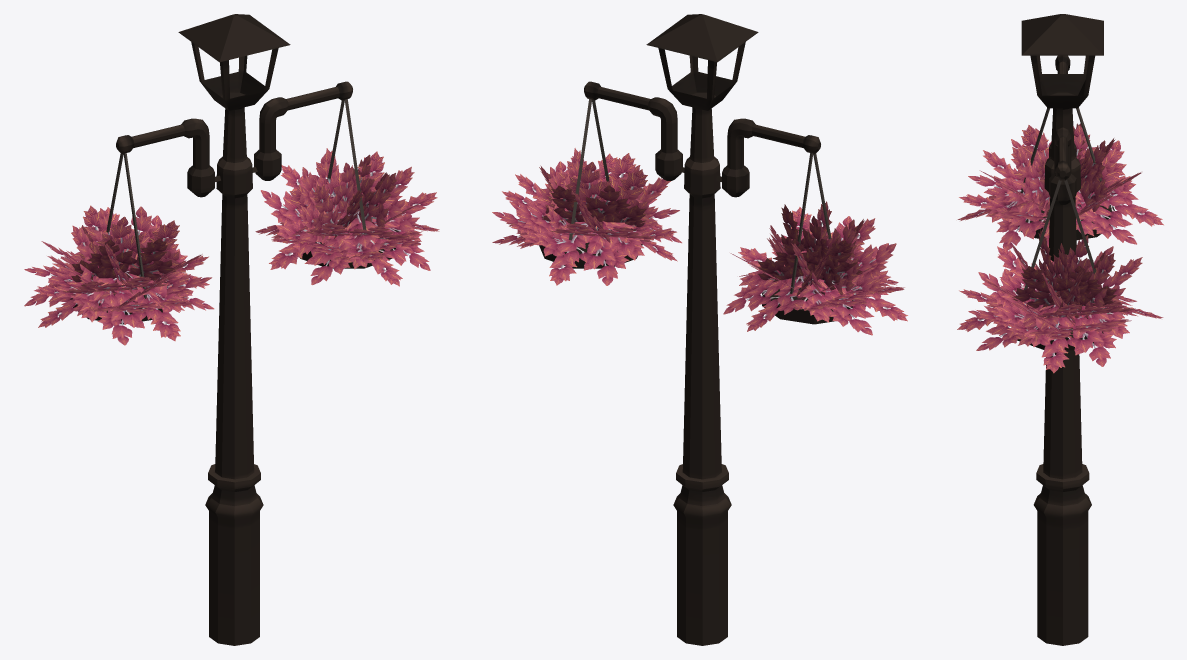
The model's file is StreetLamp.obj.
3 views of the same model, side by side, from view 1: azimuth 30°, elevation 25°; view 2: azimuth 150°, elevation 25°; view 3: azimuth 270°, elevation 25° (orthographic).
Visible parts, largest first — view 1: pCube40; view 2: pCube40; view 3: pCube40.
Boxes of the visible parts, x1=… form: pCube40: x1=24, y1=14, x2=439, y2=645; pCube40: x1=492, y1=14, x2=907, y2=645; pCube40: x1=957, y1=14, x2=1163, y2=645.
Bounding box in the file's own units: 18.13 × 25.96 × 8.46.
